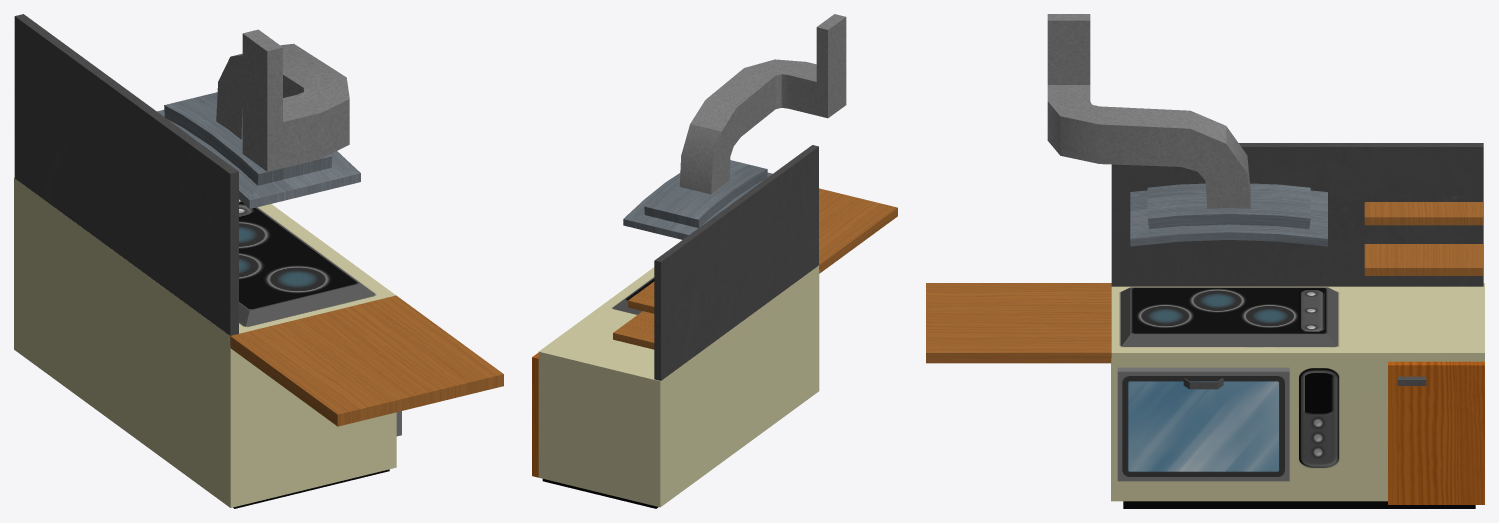
Rendered from ModStove.fbx.
3 views of the same model, side by side, from view 1: azimuth 30°, elevation 25°; view 2: azimuth 150°, elevation 25°; view 3: azimuth 270°, elevation 25° (orthographic). The views are drawn at different scales.
Visible parts, largest first — view 1: polySurface5; view 2: polySurface5, polySurface2; view 3: polySurface5, polySurface1, polySurface2.
Boxes of the visible parts, box(x1,y1,x2,y2) form: polySurface5: box(14, 14, 503, 508); polySurface5: box(538, 14, 897, 508); polySurface2: box(532, 352, 538, 477); polySurface5: box(926, 14, 1484, 508); polySurface1: box(1117, 367, 1289, 481); polySurface2: box(1388, 361, 1484, 504).
Size of the model in its own units: 1.97 by 5.02 by 5.98.
Materials: 1 (1 with a texture image).
